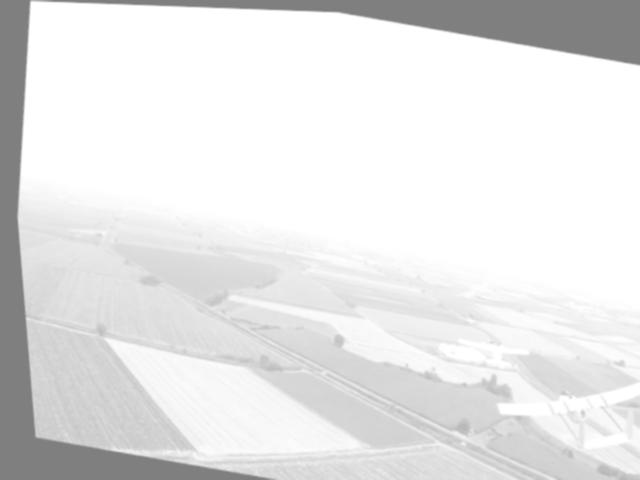hedef: (480, 344, 640, 472)
